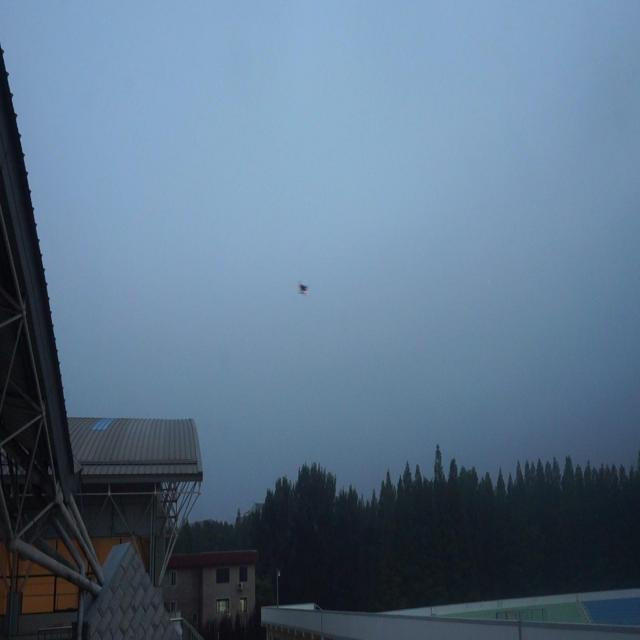UAV: (298, 284, 309, 294)
